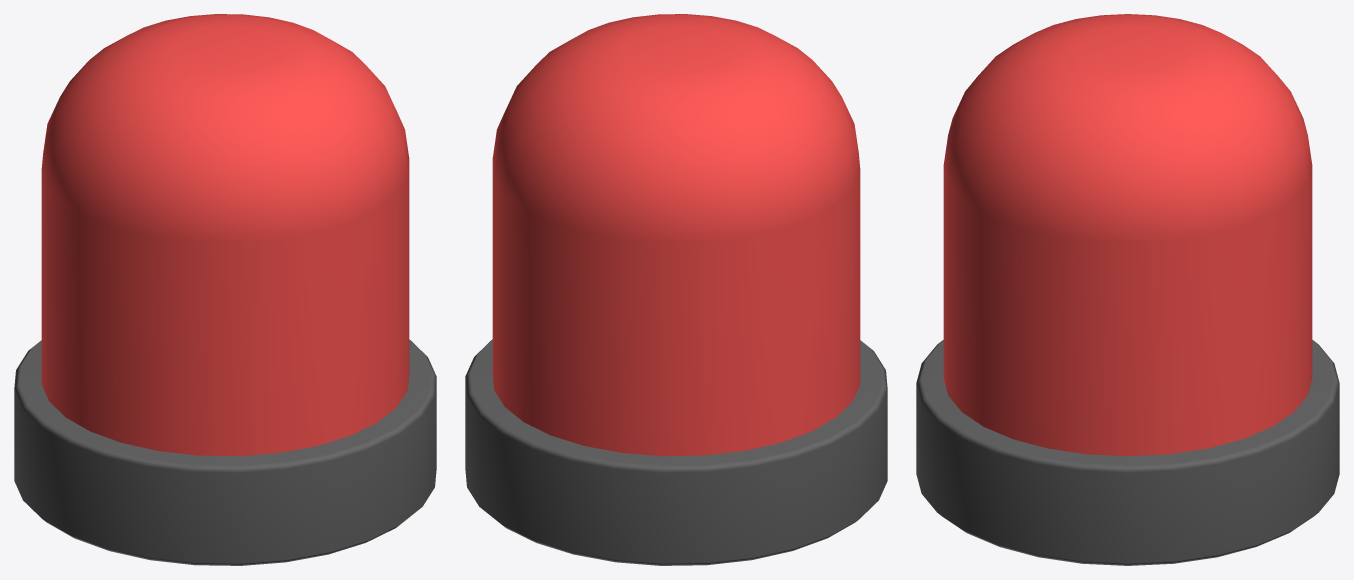
File: Public_16_Police_Light_1.glb
3 views of the same model, side by side, from view 1: azimuth 30°, elevation 25°; view 2: azimuth 150°, elevation 25°; view 3: azimuth 270°, elevation 25° (orthographic).
Visible parts, largest first — view 1: Public_16_Police_Light_1; view 2: Public_16_Police_Light_1; view 3: Public_16_Police_Light_1.
Part boxes in pixels (x1,y1,x2,y2): Public_16_Police_Light_1: (14,14,436,565); Public_16_Police_Light_1: (465,14,887,565); Public_16_Police_Light_1: (916,14,1339,565).
Bounding box in the file's own units: 2.61 × 2.92 × 2.61.
Materials: 1 (1 with a texture image).
